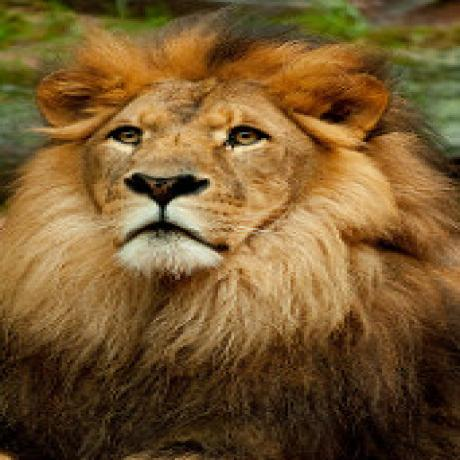Lion: (0, 19, 460, 460)
